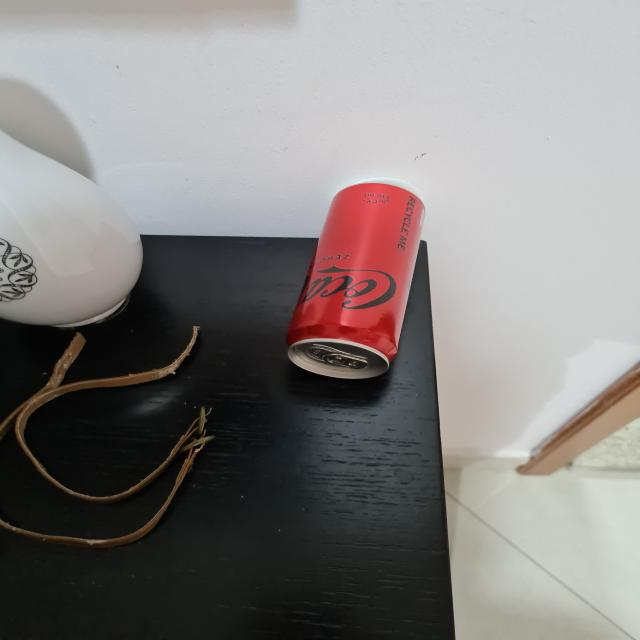non-organic waste: (280, 180, 430, 384)
